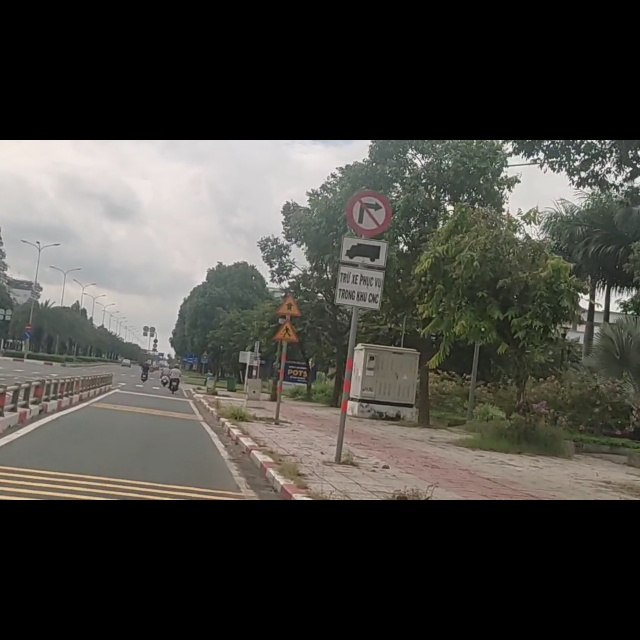bien_cam: (335, 171, 387, 302), (341, 88, 393, 172), (271, 319, 300, 360), (275, 273, 303, 313)
